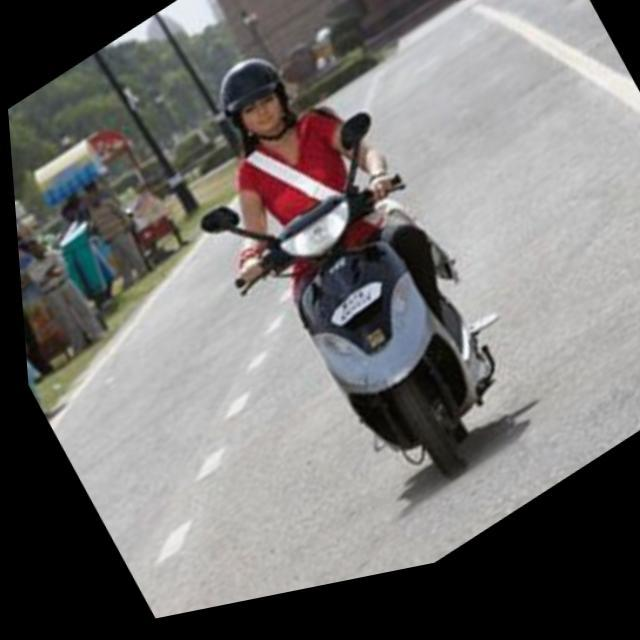Helmet: (209, 52, 299, 148)
